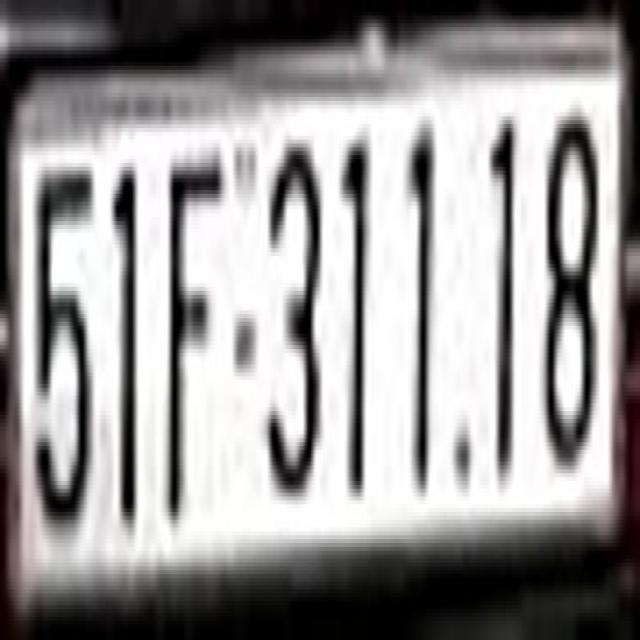1: (107, 156, 142, 532), (488, 116, 522, 454), (406, 116, 432, 508), (340, 140, 368, 484)
3: (266, 140, 319, 473)
5: (36, 143, 90, 516)
8: (544, 101, 600, 458)
F: (166, 163, 225, 524)
